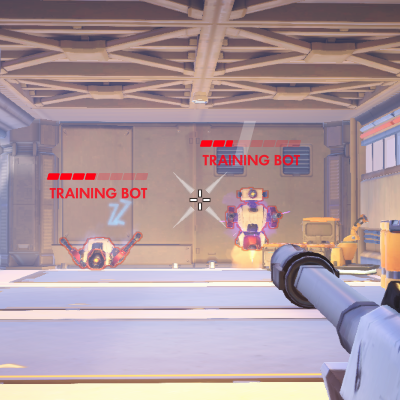hpbar: (46, 172, 149, 181), (200, 139, 301, 148)
